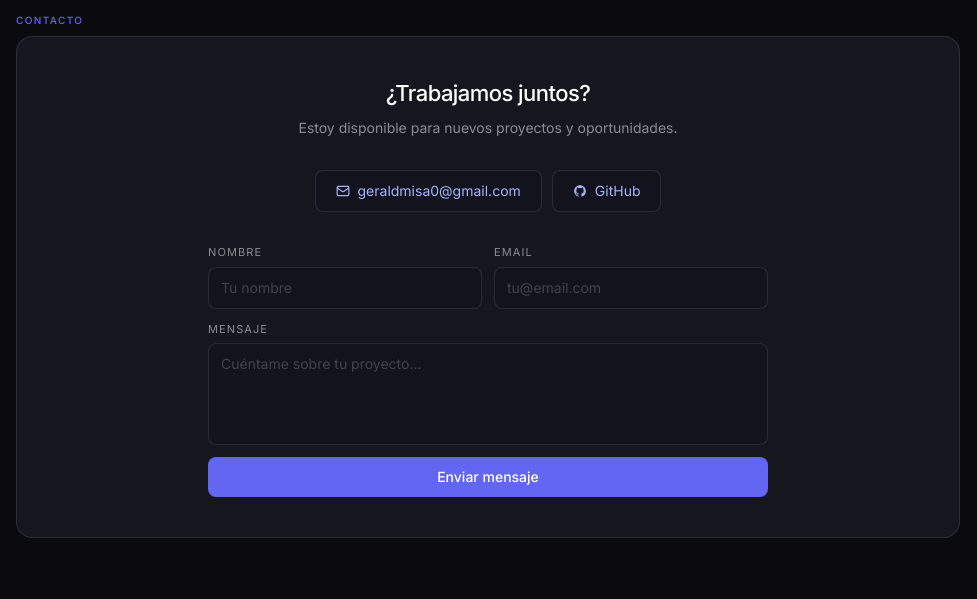
Contact › muestra error si el mensaje es demasiado corto
Type "Hola" into the text box with placeholder "Cuéntame sobre tu proyecto..." at [488, 394], box 208,343 -> 768,445
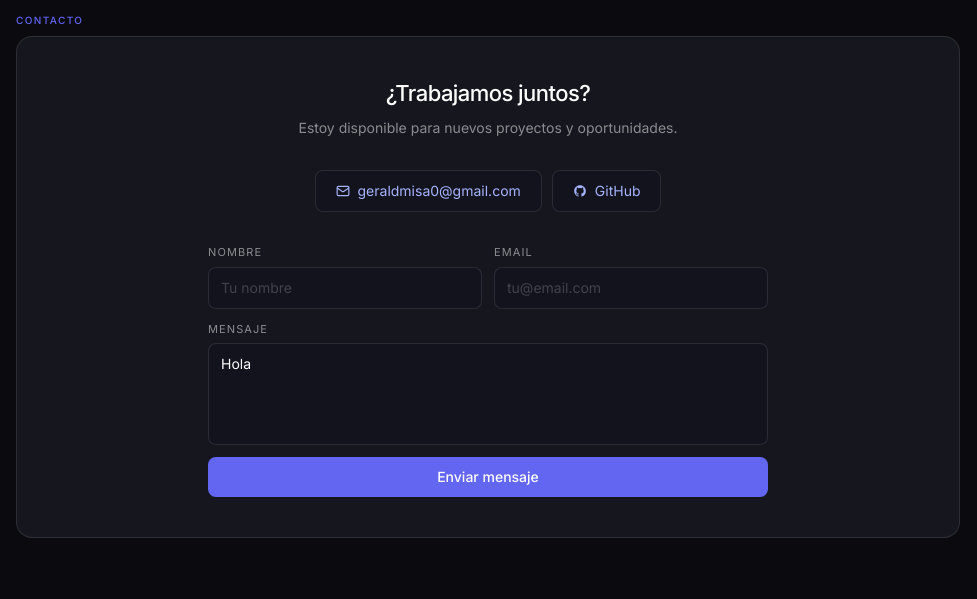
Click the button "Enviar mensaje" at [488, 477], box 208,457 -> 768,497
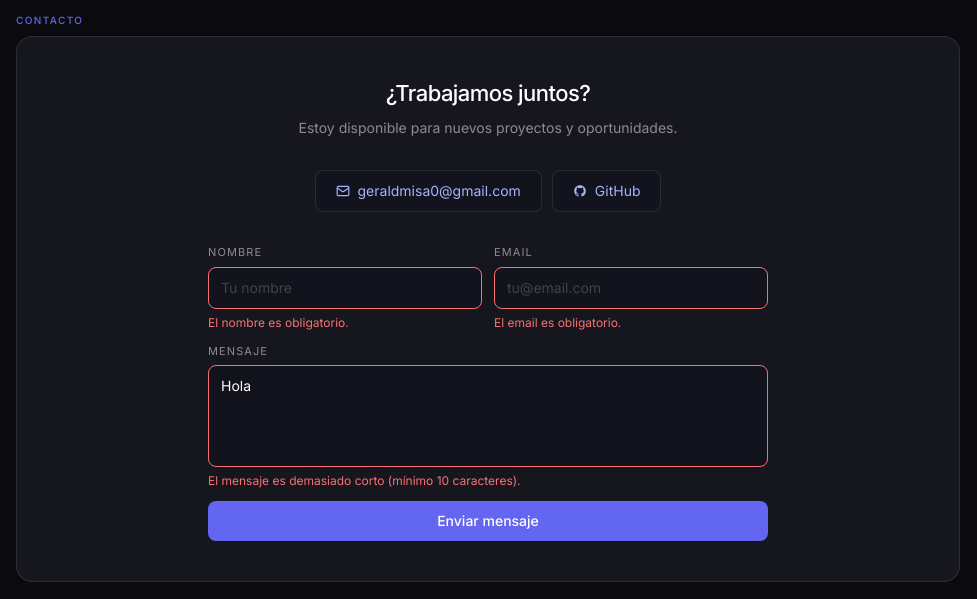
Now the text "El mensaje es demasiado corto (mínimo 10 caracteres)." is shown, box 208,473 -> 521,488
